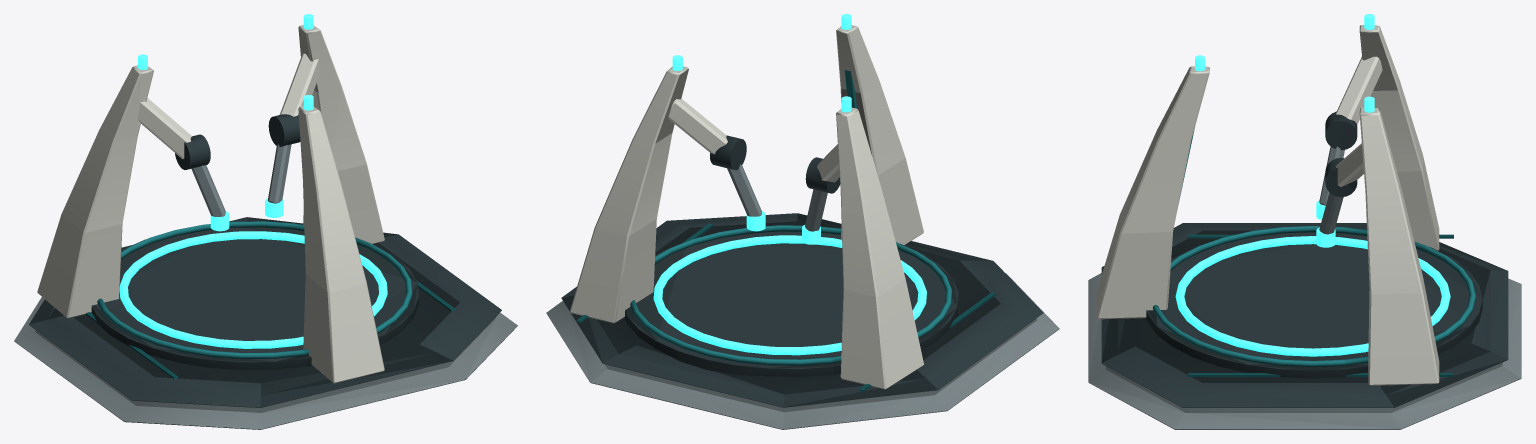
File: ServiceCradle.glb
The picture shows the model from 3 angles, left to right: view 1: azimuth 30°, elevation 25°; view 2: azimuth 150°, elevation 25°; view 3: azimuth 270°, elevation 25°; orthographic projection. The views are drawn at different scales.
Visible parts, largest first — view 1: export_ServiceCradle_Foundation, export_ServiceCradle_ServiceUpper, export_ServiceCradle_ServiceUpper.001; view 2: export_ServiceCradle_Foundation, export_ServiceCradle_ServiceUpper.001, export_ServiceCradle_ServiceUpper; view 3: export_ServiceCradle_Foundation, export_ServiceCradle_ServiceUpper, export_ServiceCradle_ServiceUpper.001.
Boxes of the visible parts, bbox=[...] form: export_ServiceCradle_Foundation: bbox=[14, 14, 517, 429]; export_ServiceCradle_ServiceUpper: bbox=[137, 98, 229, 231]; export_ServiceCradle_ServiceUpper.001: bbox=[265, 53, 319, 217]; export_ServiceCradle_Foundation: bbox=[546, 14, 1059, 429]; export_ServiceCradle_ServiceUpper.001: bbox=[668, 99, 765, 231]; export_ServiceCradle_ServiceUpper: bbox=[802, 144, 840, 244]; export_ServiceCradle_Foundation: bbox=[1088, 14, 1521, 429]; export_ServiceCradle_ServiceUpper: bbox=[1316, 56, 1382, 219]; export_ServiceCradle_ServiceUpper.001: bbox=[1316, 143, 1363, 247].
Size of the model in its own units: 5.76 by 3.75 by 5.37.
